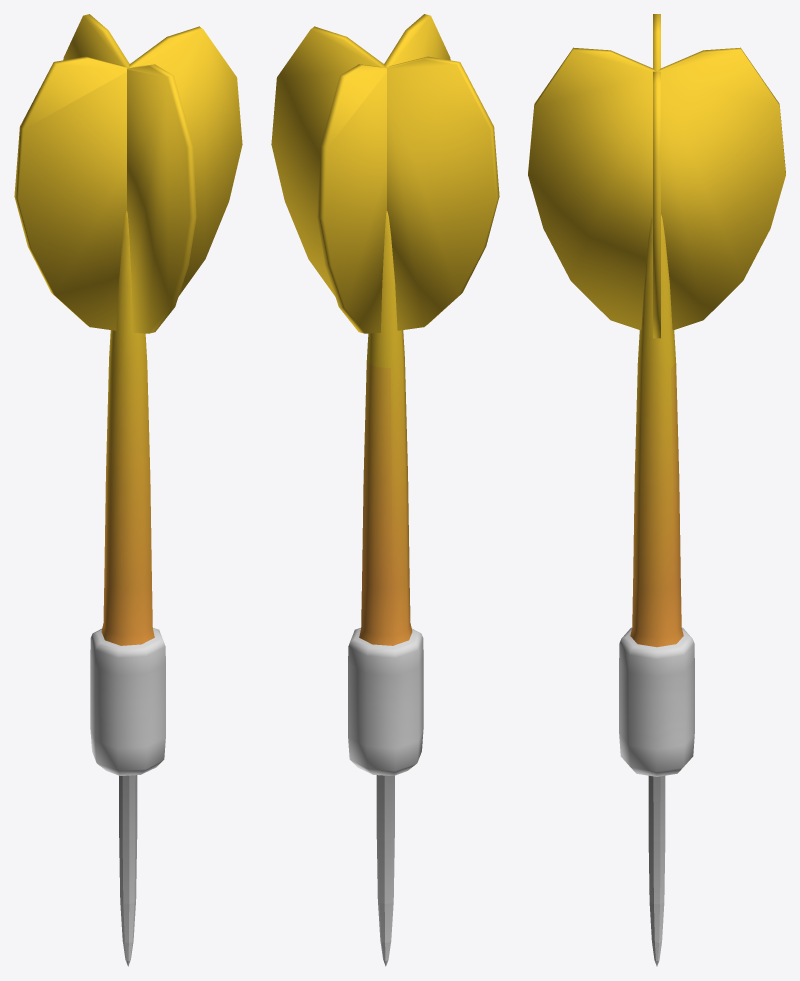
The model's file is SM_dart_yellow.fbx.
3 renders of one model, left to right at view 1: azimuth 30°, elevation 25°; view 2: azimuth 150°, elevation 25°; view 3: azimuth 270°, elevation 25°, orthographic.
Parts seen in each view (by area): view 1: Cube.009; view 2: Cube.009; view 3: Cube.009.
Part boxes in pixels (bbox=[...]): Cube.009: bbox=[14, 14, 242, 966]; Cube.009: bbox=[271, 14, 499, 966]; Cube.009: bbox=[528, 14, 785, 966].
Bounding box in the file's own units: 388 × 1521 × 388.
